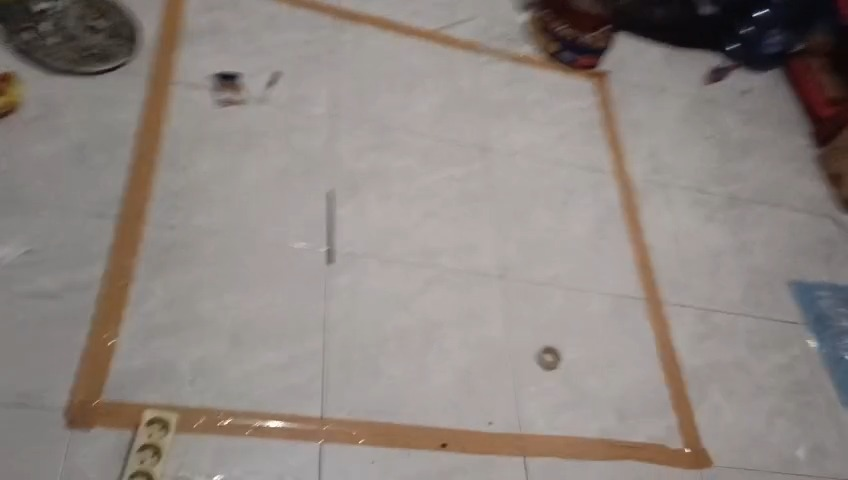floor marking: (155, 0, 711, 469), (66, 0, 184, 428)
